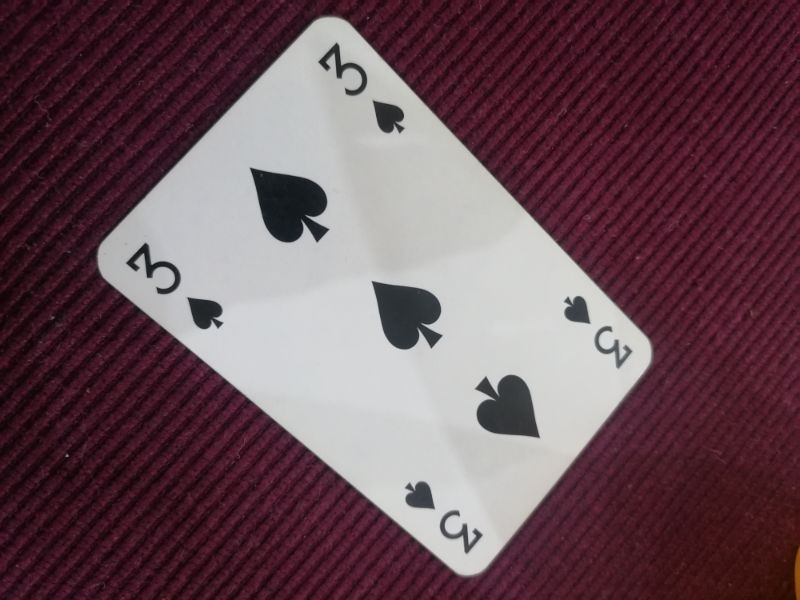3s: (123, 237, 229, 333), (316, 40, 410, 139), (398, 472, 488, 558), (560, 291, 635, 371)
